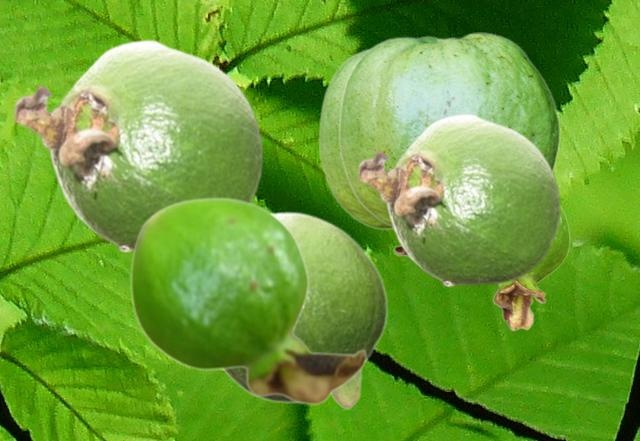guava: (12, 38, 264, 252), (129, 196, 367, 405), (338, 32, 560, 228), (356, 112, 561, 286), (222, 210, 387, 410), (318, 48, 406, 257), (492, 207, 569, 330)
